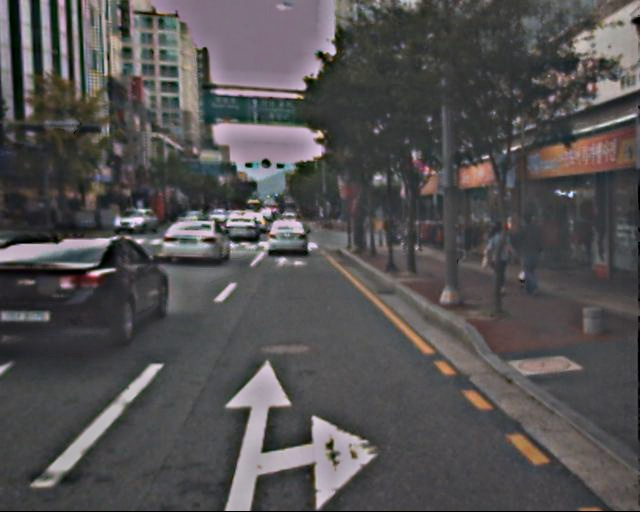person: (510, 214, 544, 298), (482, 222, 513, 297)
